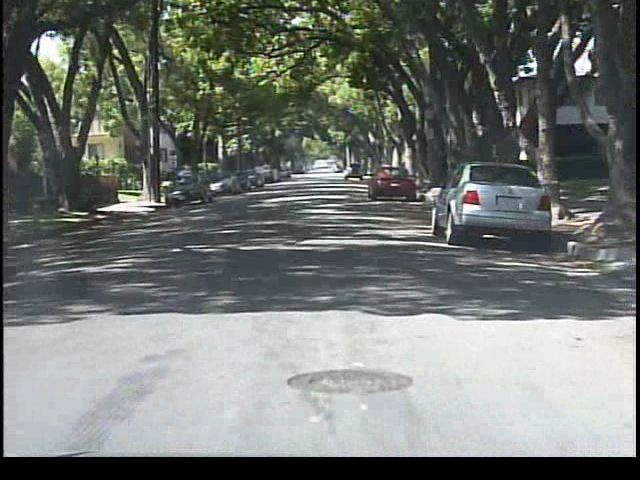person: (175, 167, 194, 200)
